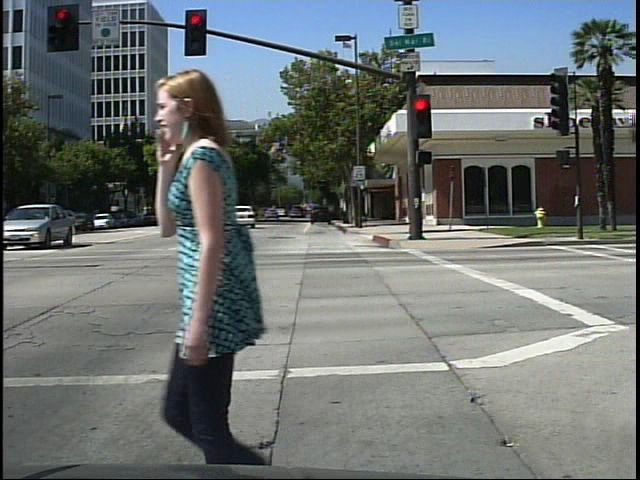person: (139, 63, 325, 466)
